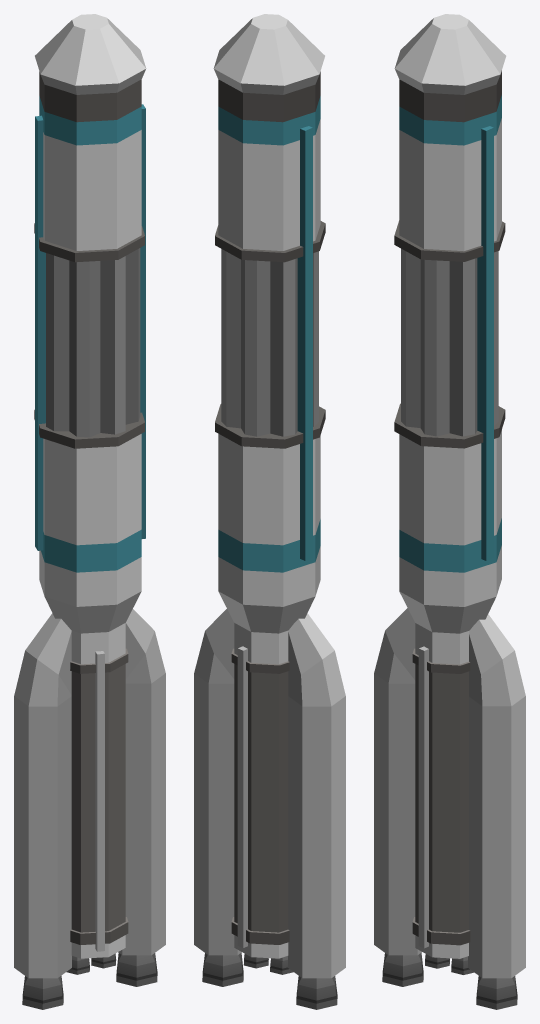
File: SM_Veh_Rocket_09.fbx
3 views of the same model, side by side, from view 1: azimuth 30°, elevation 25°; view 2: azimuth 150°, elevation 25°; view 3: azimuth 330°, elevation 25° (orthographic).
Visible parts, largest first — view 1: SM_Veh_Rocket_09; view 2: SM_Veh_Rocket_09; view 3: SM_Veh_Rocket_09.
Part boxes in pixels (x1,y1,x2,y2): SM_Veh_Rocket_09: [14, 14, 165, 1009]; SM_Veh_Rocket_09: [194, 14, 345, 1009]; SM_Veh_Rocket_09: [374, 14, 525, 1009].
Size of the model in its own units: 2.9 by 19.48 by 2.11.
